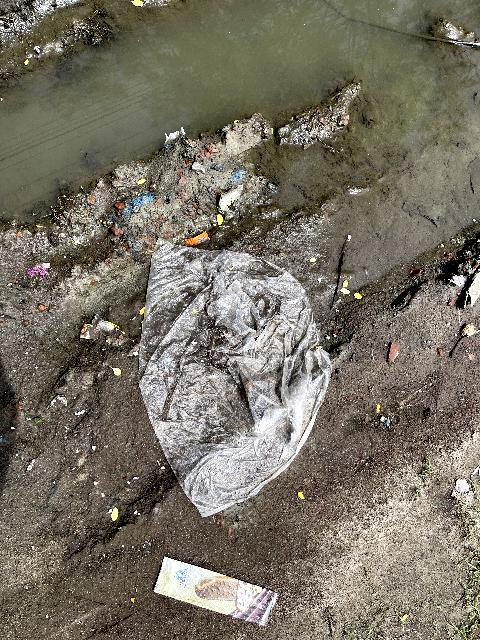polythene: (96, 228, 358, 514)
